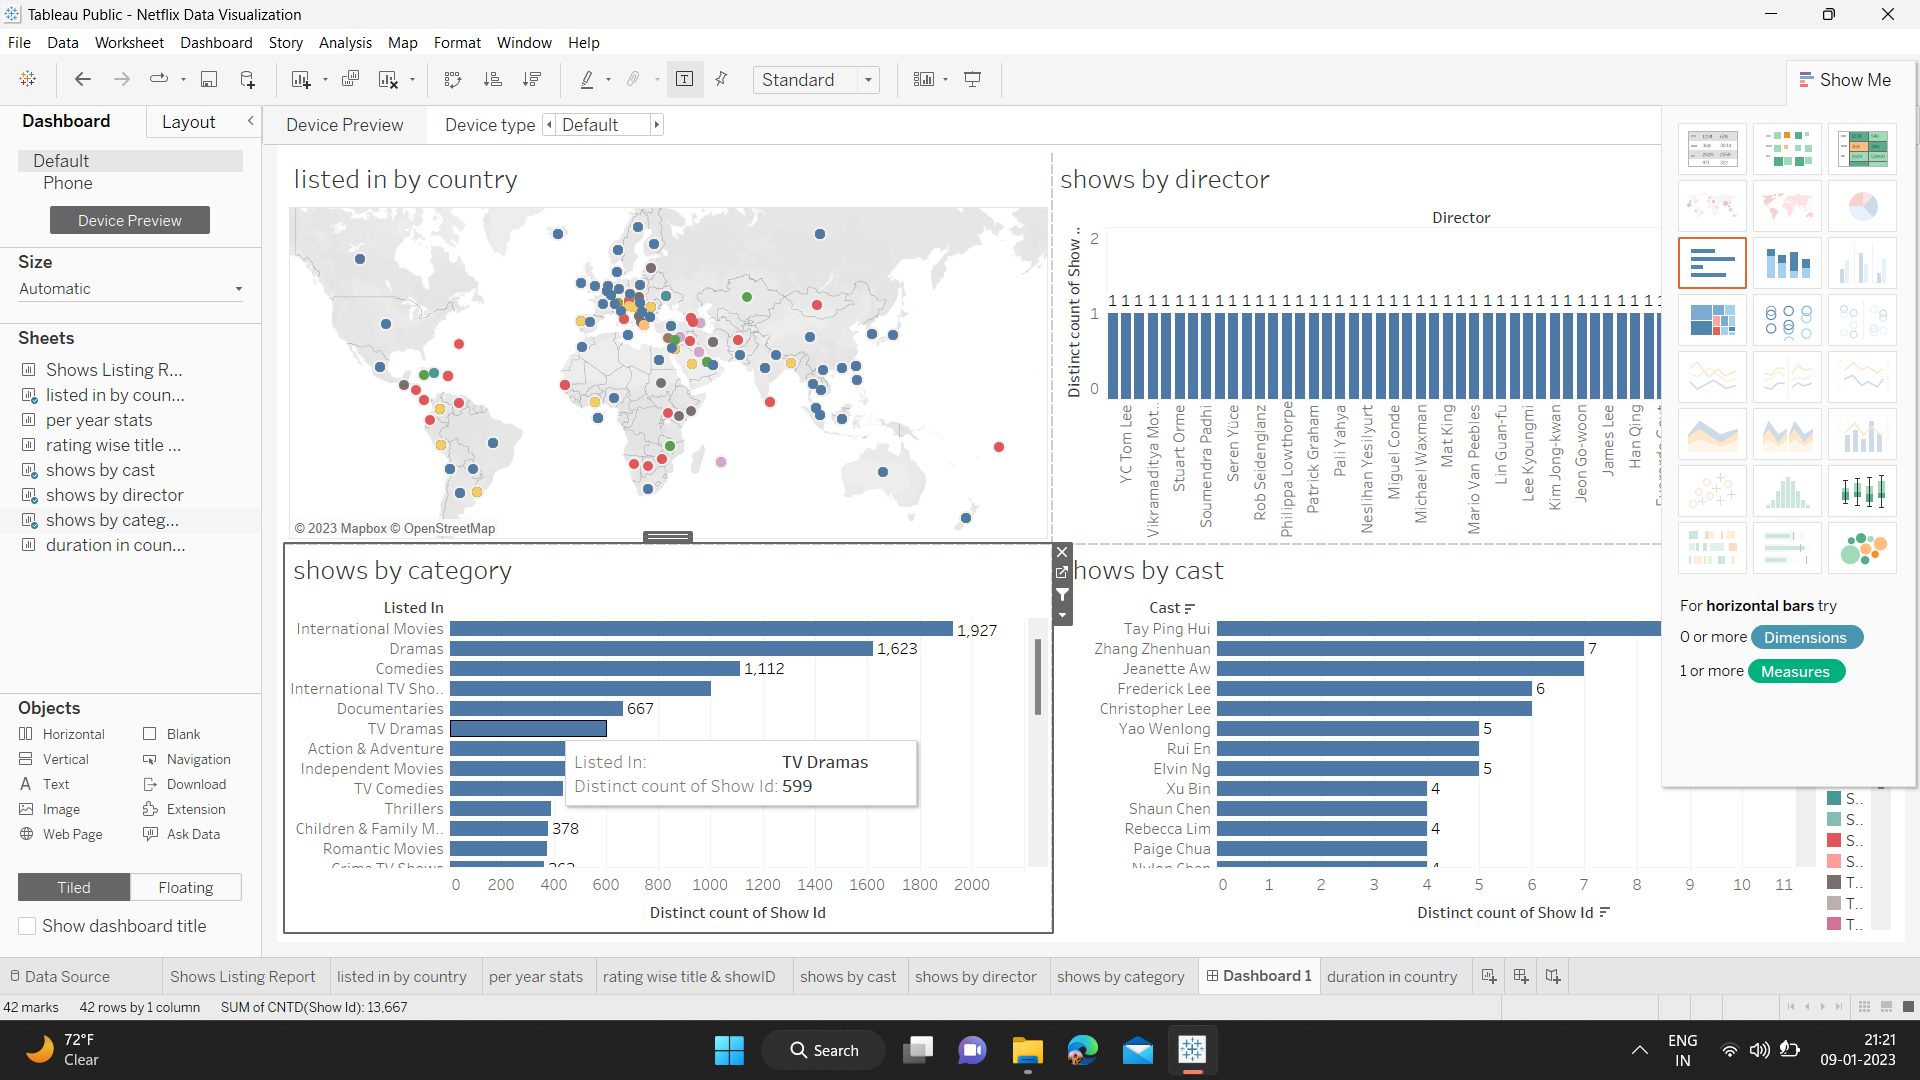

The dashboard page shown, as its layout file describes it:
{"tool":"tableau","page":{"name":"Dashboard 1","canvas":[1000,1000],"units":"permille","ordinal":0},"visuals":[{"type":"worksheet","title":"listed in by country","mark":"Automatic","box":[4.9,10,471.4,489.9]},{"type":"worksheet","title":"shows by director","mark":"Automatic","rows":["show_id"],"cols":["director"],"box":[476.3,10,471.5,489.9]},{"type":"legend","title":"listed in by country","param":"[federated.12r0pb0082kwte1166ls904vahb1].[none:listed_in:nk]","box":[947.8,10,47.3,64]},{"type":"worksheet","title":"shows by category","mark":"Automatic","rows":["listed_in"],"cols":["show_id"],"box":[4.9,500,471.4,490]},{"type":"worksheet","title":"shows by cast","mark":"Automatic","rows":["cast"],"cols":["show_id"],"box":[476.3,500,471.5,490]}]}

Visuals, with their boxes on the dashboard's canvas, which has no fixed pixel size, in thousandths of its width and height (x1, y1, x2, y2). These are canvas units, not pixel positions in the 1920x1080 screenshot, which may show the page scaled, cropped or inside an application window:
"listed in by country" worksheet: {"left": 5, "top": 10, "right": 476, "bottom": 500}
"shows by director" worksheet: {"left": 476, "top": 10, "right": 948, "bottom": 500}
"listed in by country" legend: {"left": 948, "top": 10, "right": 995, "bottom": 74}
"shows by category" worksheet: {"left": 5, "top": 500, "right": 476, "bottom": 990}
"shows by cast" worksheet: {"left": 476, "top": 500, "right": 948, "bottom": 990}
